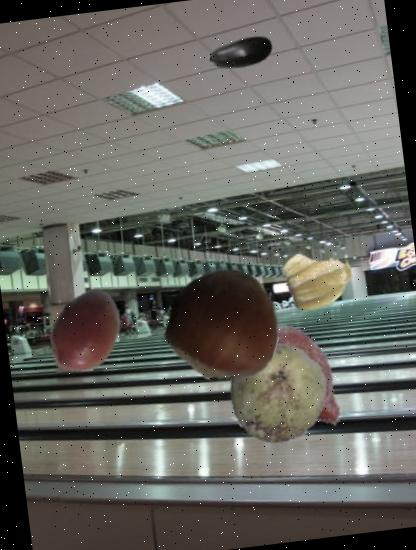Eggplant: (204, 16, 278, 92)
Nut: (160, 261, 288, 389)
Pear: (221, 336, 334, 450)
Physalis: (281, 238, 357, 314)
Potato: (38, 283, 135, 380)
Salak: (228, 308, 366, 446)
